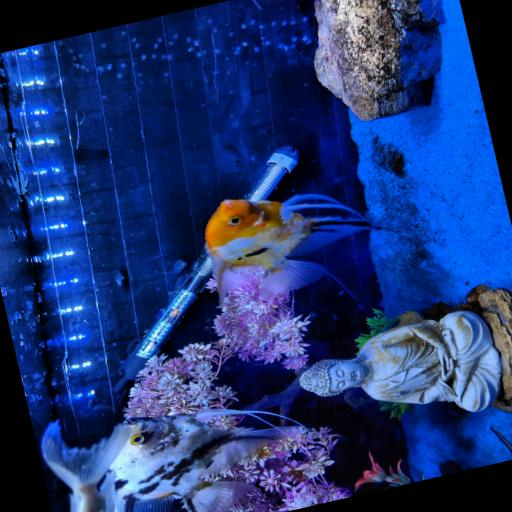Fish: (110, 410, 304, 511), (205, 194, 381, 300), (41, 422, 130, 511)
